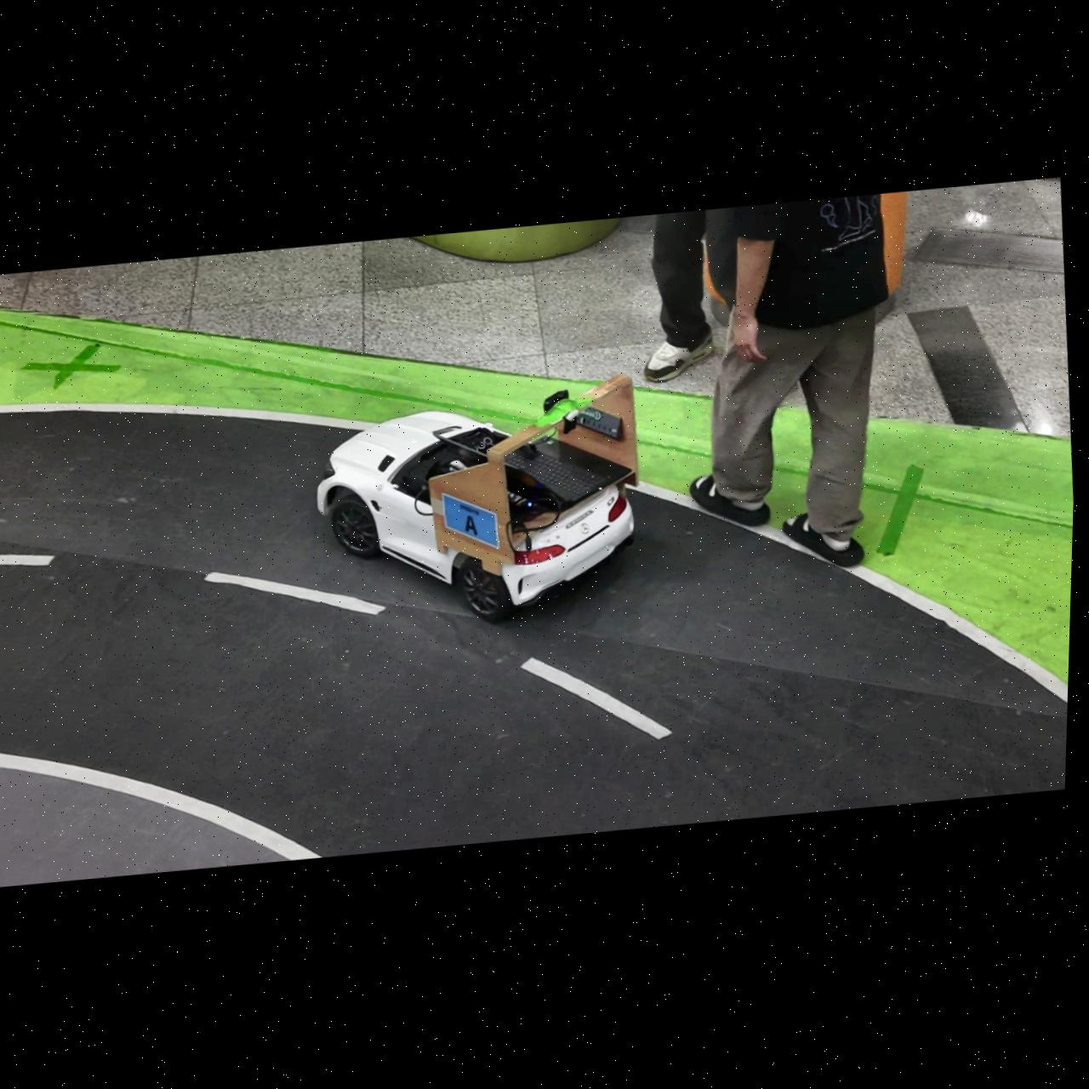broken_line: (522, 658, 671, 739), (205, 572, 385, 614), (0, 554, 54, 565)
